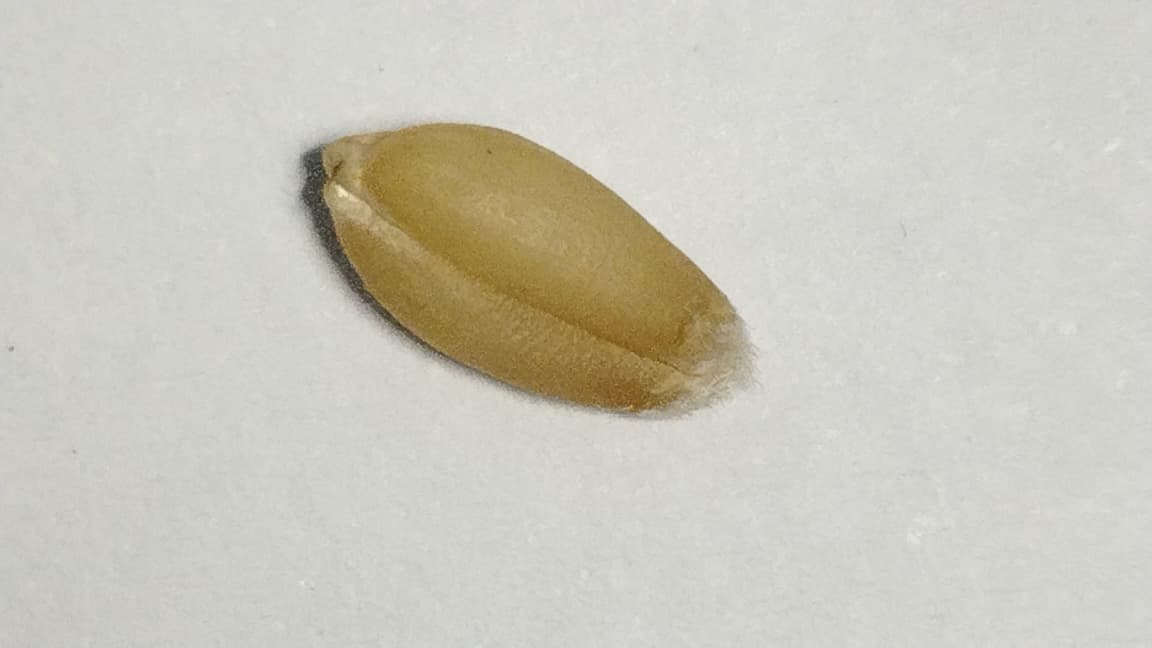healthy: (324, 124, 749, 413)
